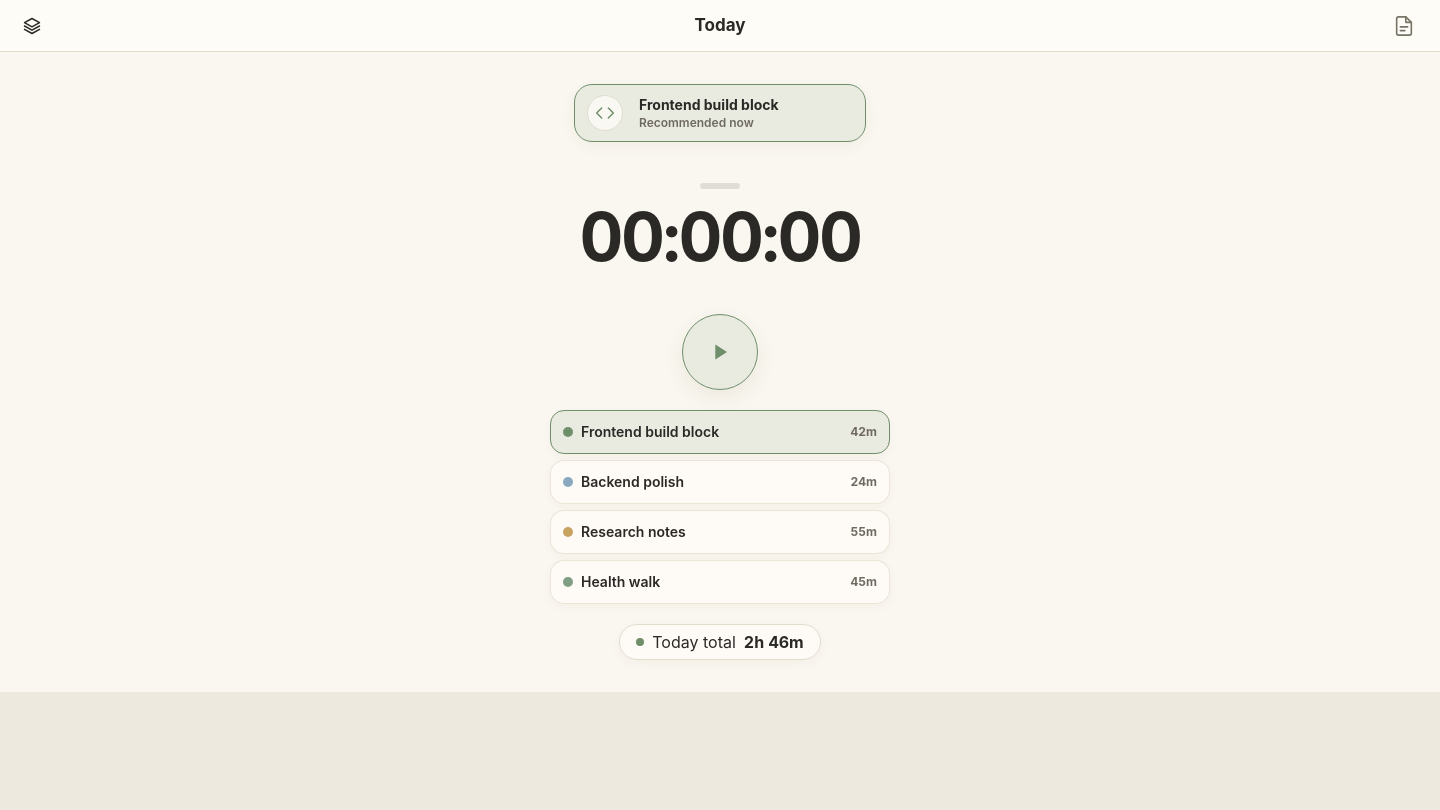
Scenario: TrackScreen › selects and starts an activity by tapping its row
Click the button named "Choose activity".
click(32, 26)  # box [12, 6, 52, 46]
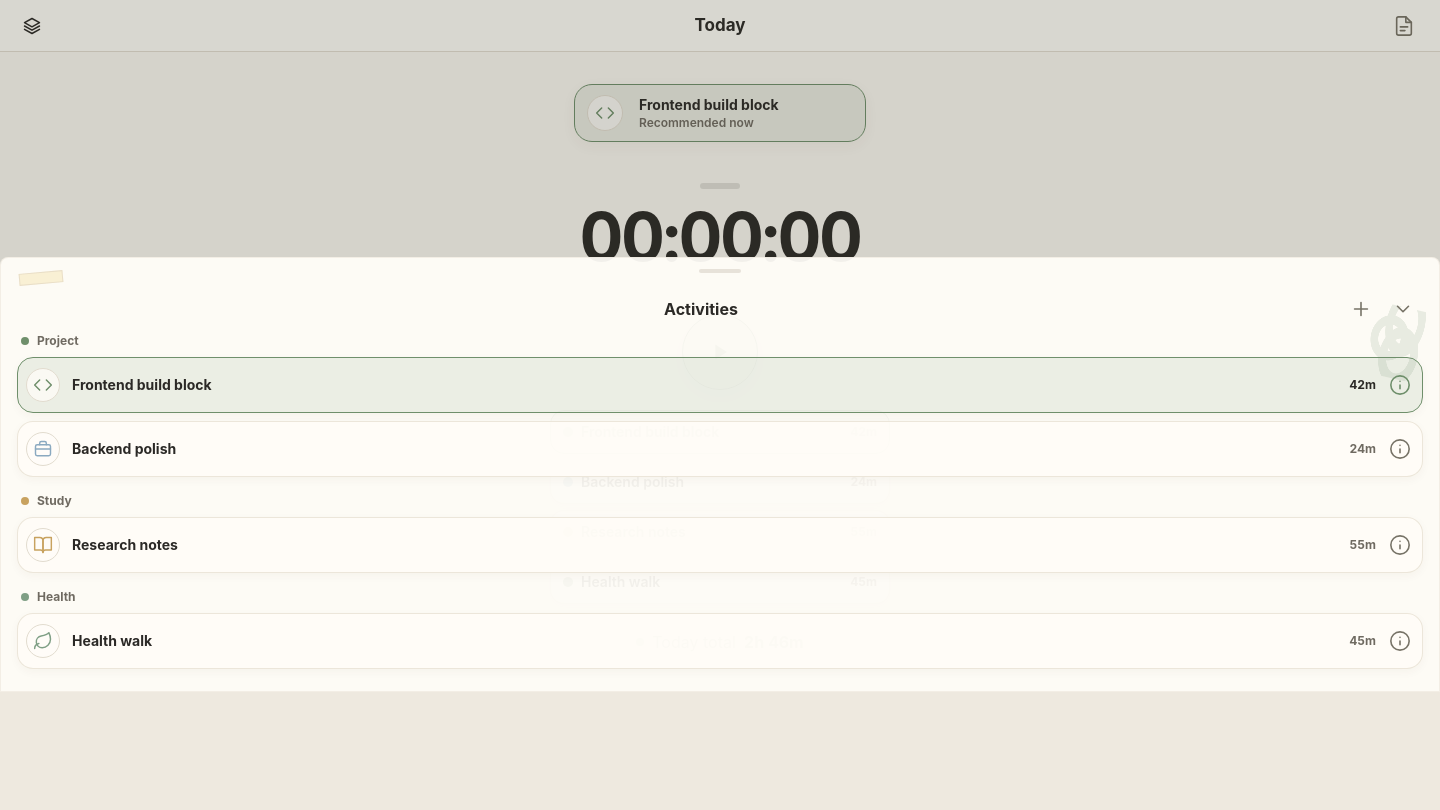
Click the button with aria-label "Start Backend polish".
click(43, 449)  # box [22, 426, 1380, 472]
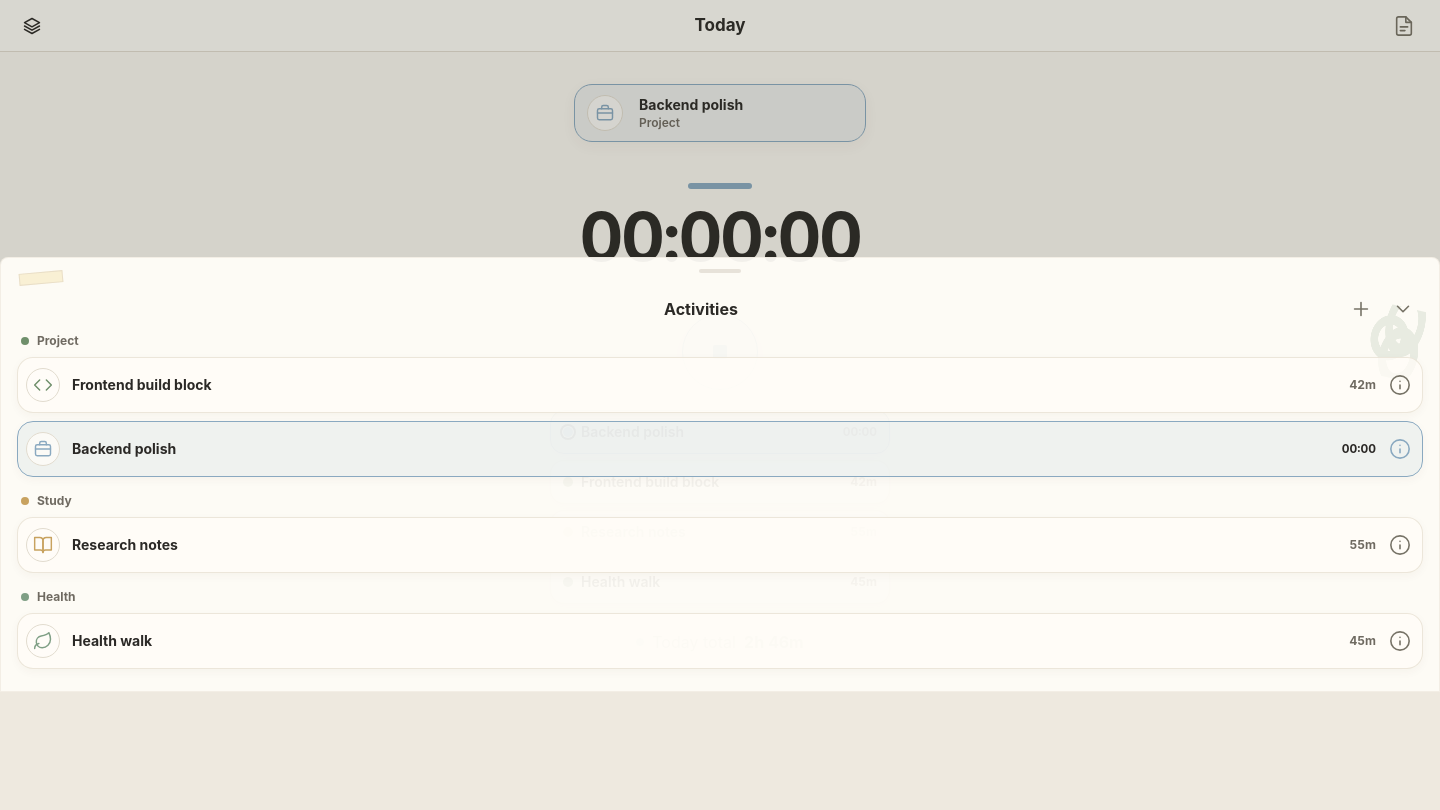
Click the button named "Close" in the row of "Activities".
click(1403, 309)  # box [1383, 289, 1423, 329]
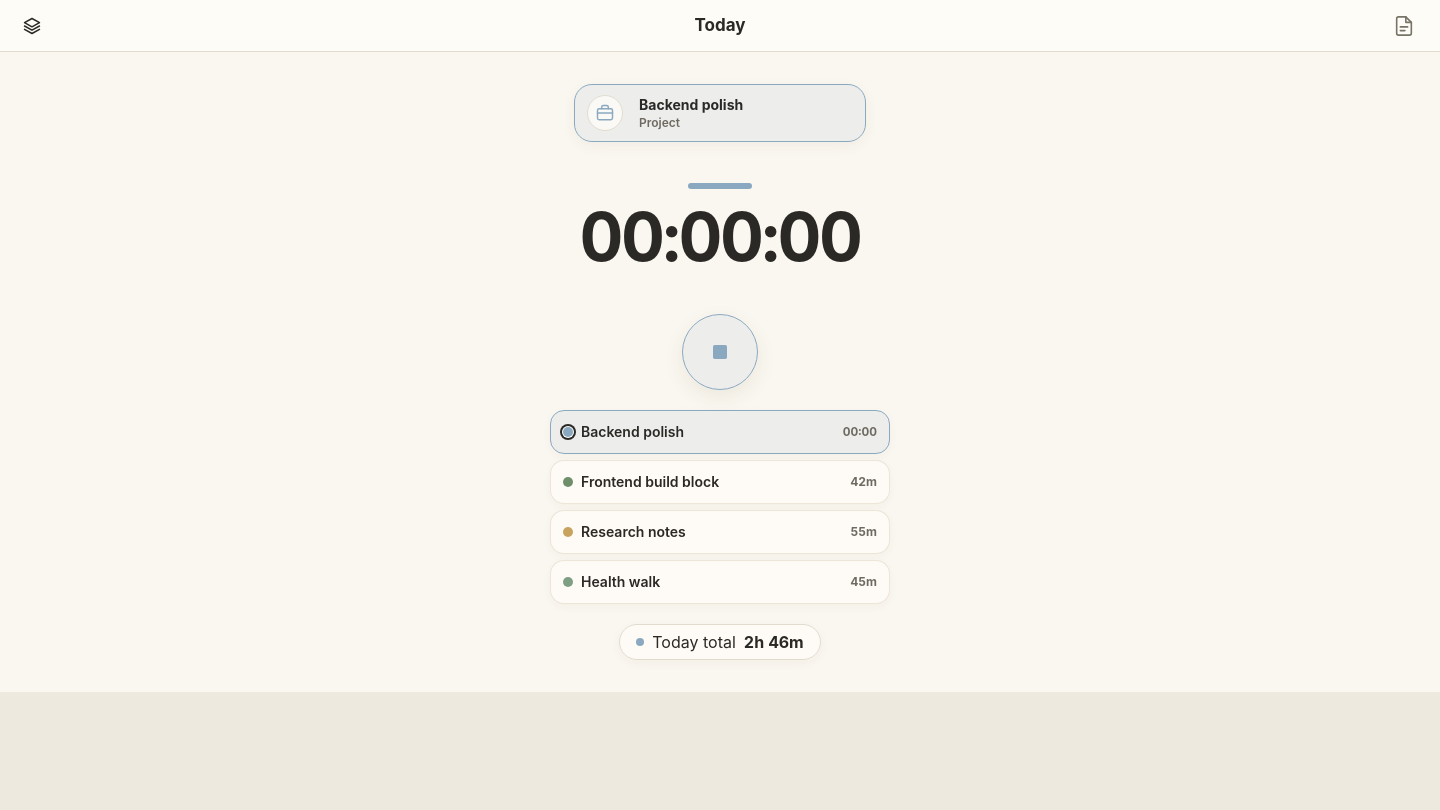
Expected: the element named "Current focus" shows "Backend polish", [574, 84, 866, 142]
Expected: the element named "Current focus" shows "Project", [574, 84, 866, 142]
Expected: the number of buttons named "End focus activity" is 1, [682, 314, 758, 390]
